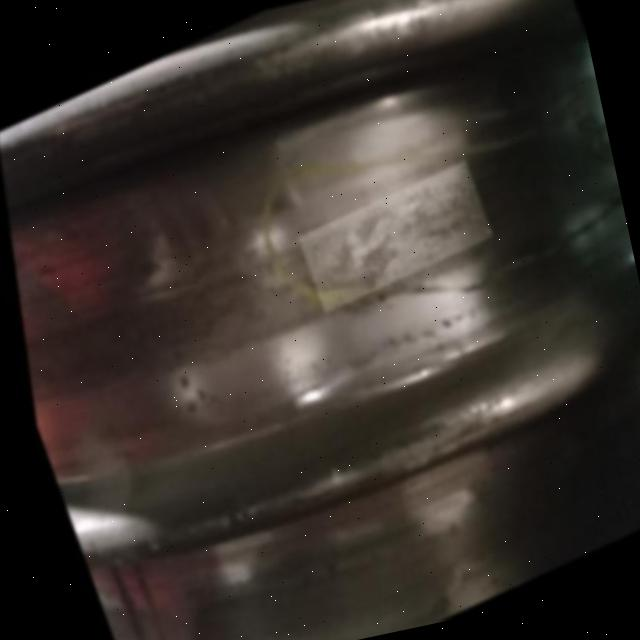flat: (238, 155, 544, 311)
